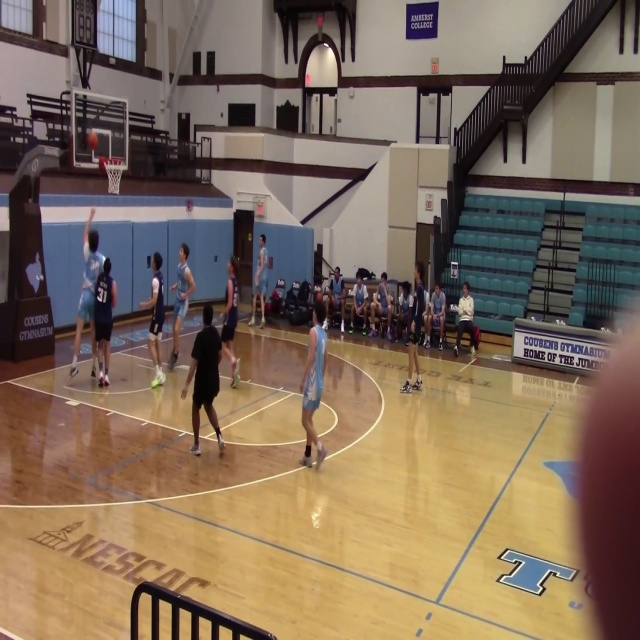Basketball: (87, 132, 98, 149), (178, 292, 186, 300)
